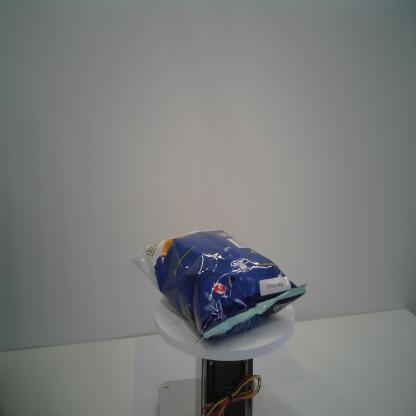Puffed Food: (130, 229, 306, 343)
